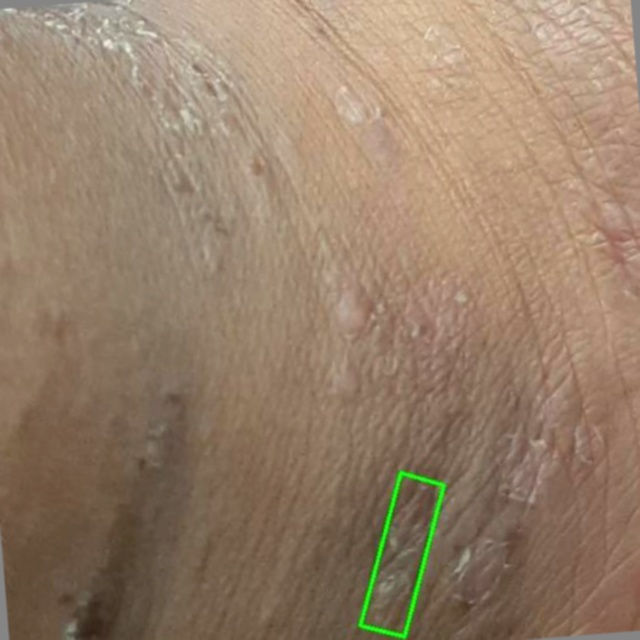Eczema: (359, 473, 443, 637)
